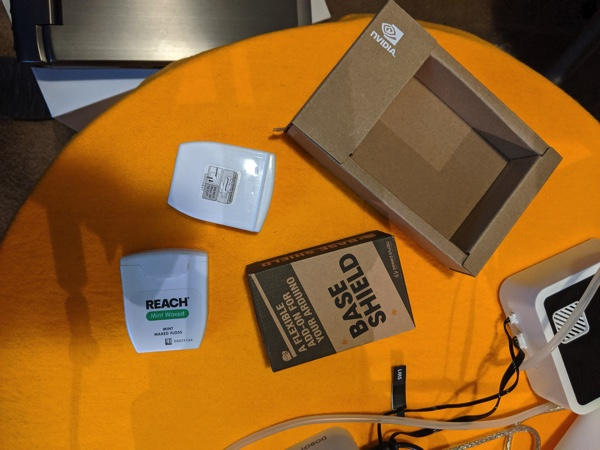cardboard: (275, 2, 580, 282), (242, 228, 424, 381)
plastic: (159, 131, 286, 241), (114, 240, 223, 359)
